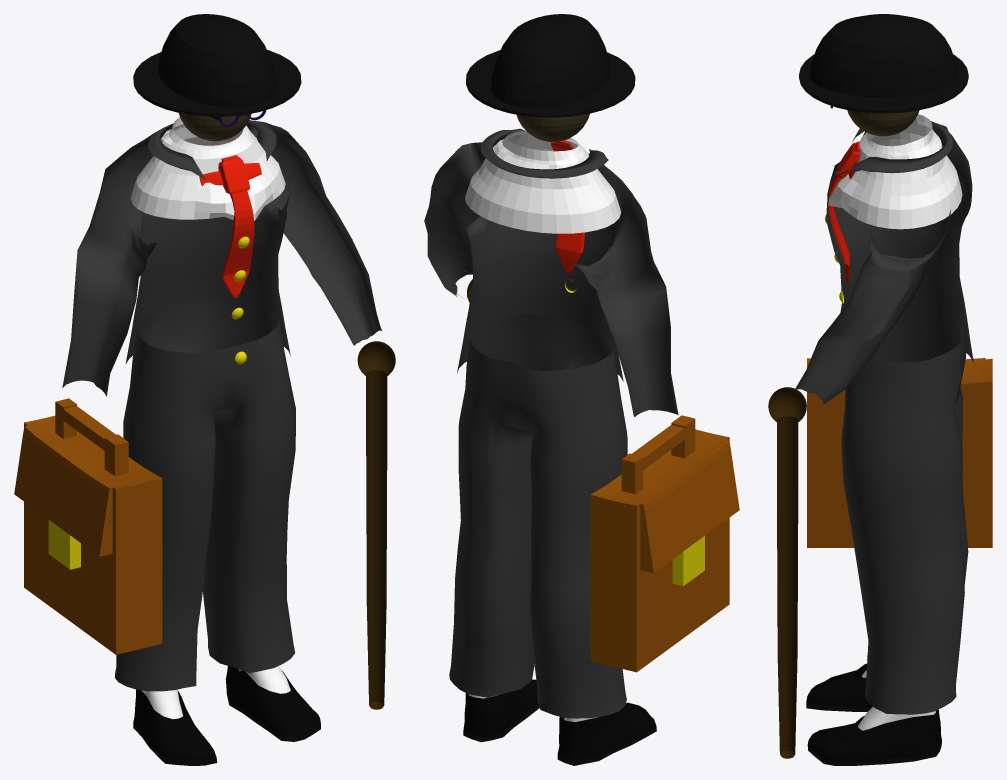
The model's file is Diplomat.glb.
The picture shows the model from 3 angles, left to right: view 1: azimuth 30°, elevation 25°; view 2: azimuth 150°, elevation 25°; view 3: azimuth 270°, elevation 25°; orthographic projection.
Parts seen in each view (by area): view 1: Diplomat; view 2: Diplomat; view 3: Diplomat.
Part boxes in pixels (left/top/right/bottom): Diplomat: left=14, top=14, right=395, bottom=765; Diplomat: left=424, top=14, right=739, bottom=765; Diplomat: left=768, top=14, right=992, bottom=765.
Bounding box in the file's own units: 0.5432 × 1.28 × 0.3677.
